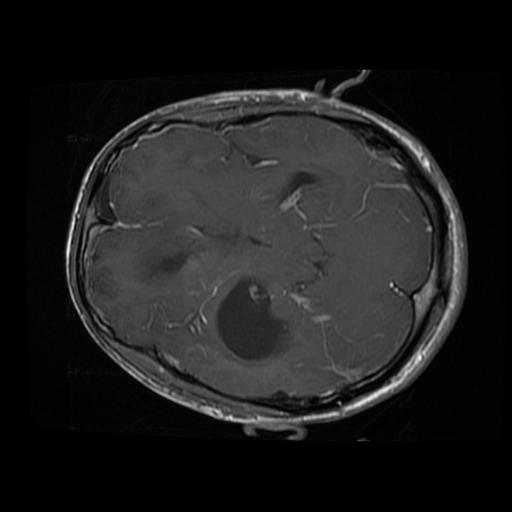glioma: (212, 276, 287, 367)
